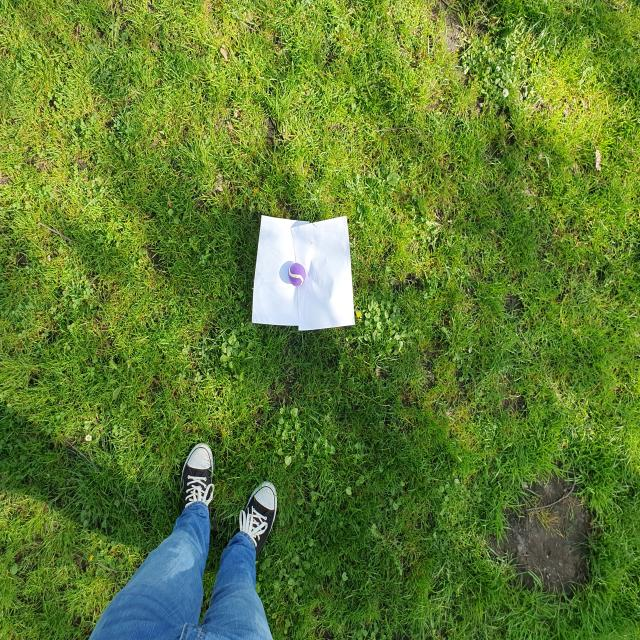purple: (288, 262, 306, 286)
